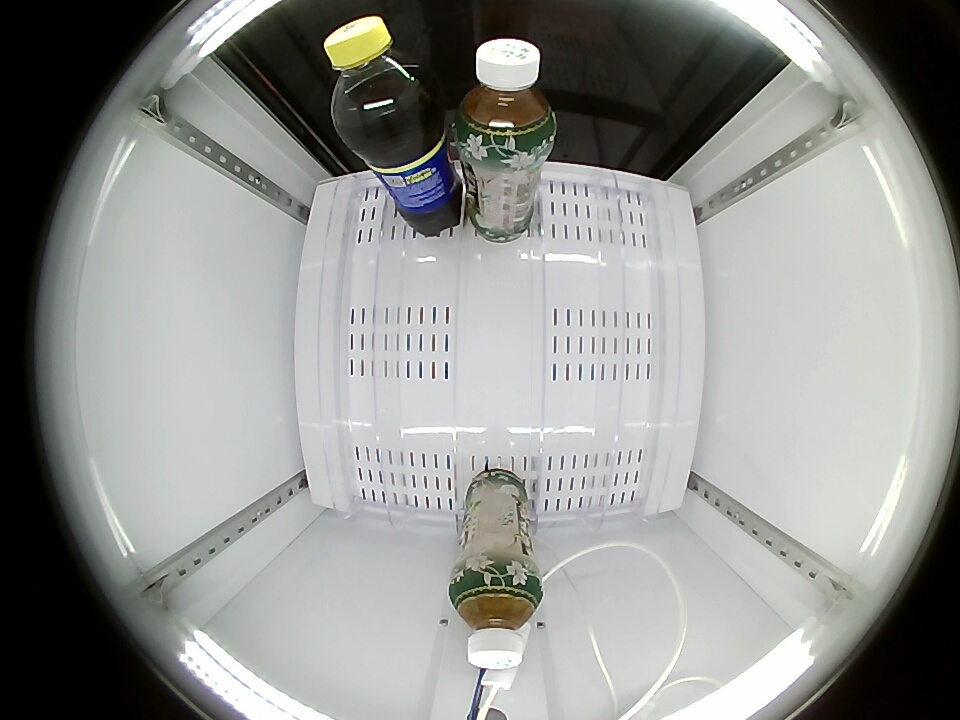kele: (308, 12, 438, 141)
molicha: (439, 564, 560, 673), (463, 28, 557, 152)
